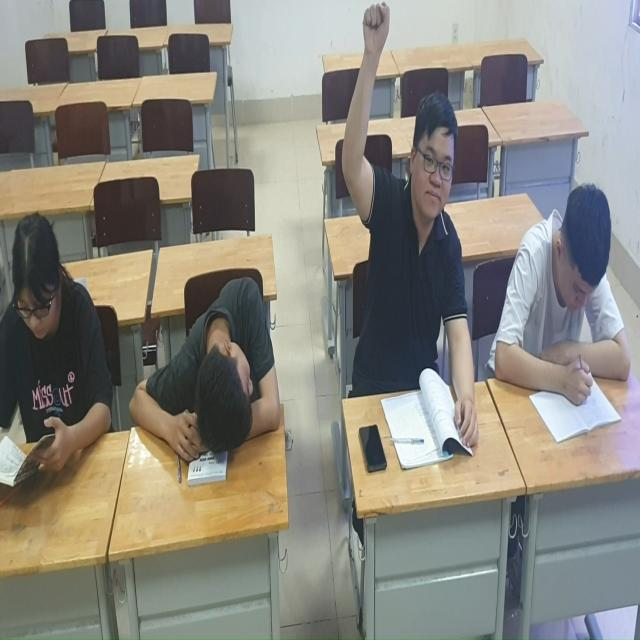raise_hand: (338, 1, 478, 462)
read: (488, 157, 636, 447), (1, 204, 128, 502)
sleep: (130, 272, 289, 489)
